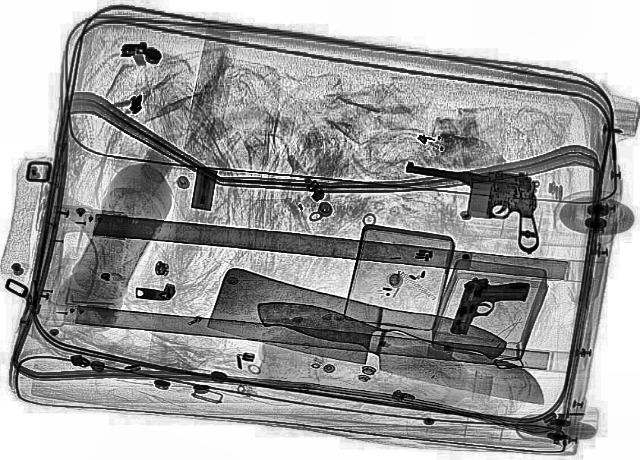Gun: (381, 156, 559, 252), (448, 268, 532, 344)
Knife: (235, 286, 562, 420), (194, 266, 511, 398)
